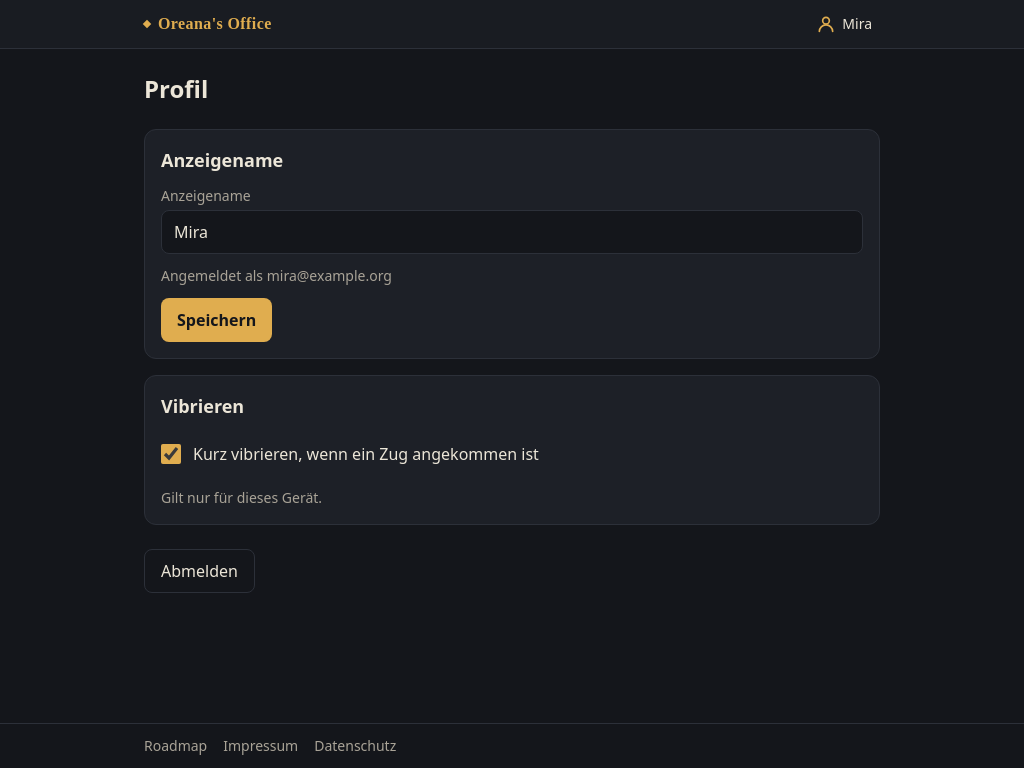
it: the sign-out warning › cancel keeps the user signed in
Expected: the heading "Profil" is shown, 144,72 -> 208,105
Click the button "Abmelden": (199, 571) 144,549 -> 255,593
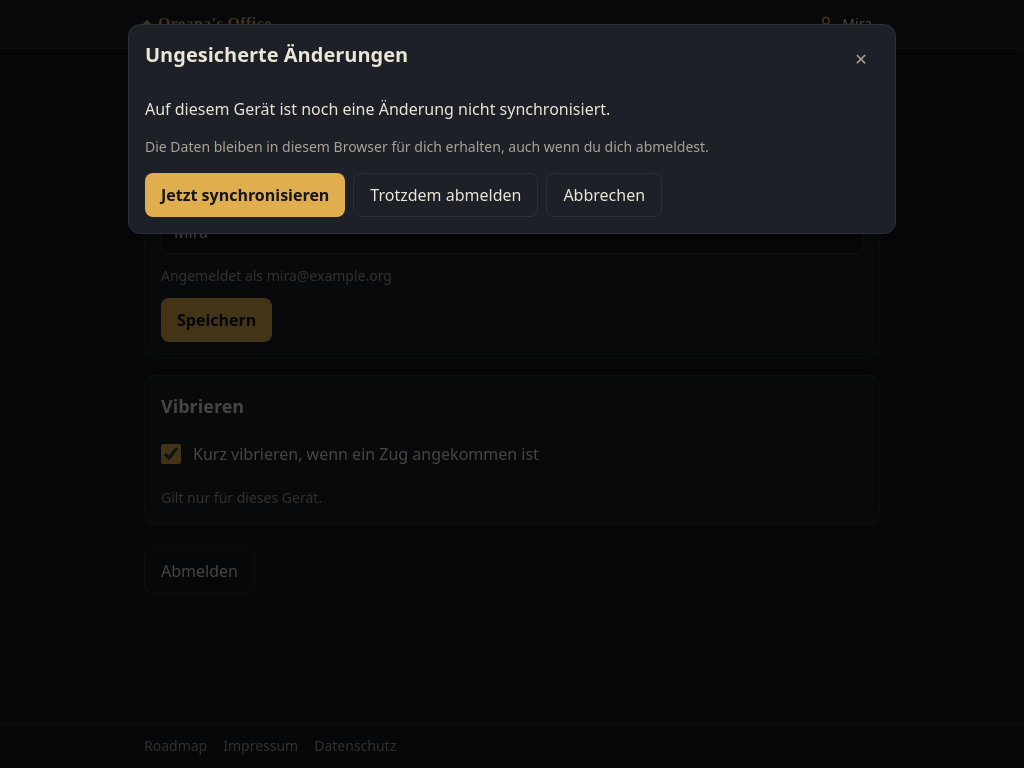
Click the button "Abbrechen": (604, 195) 546,173 -> 662,217
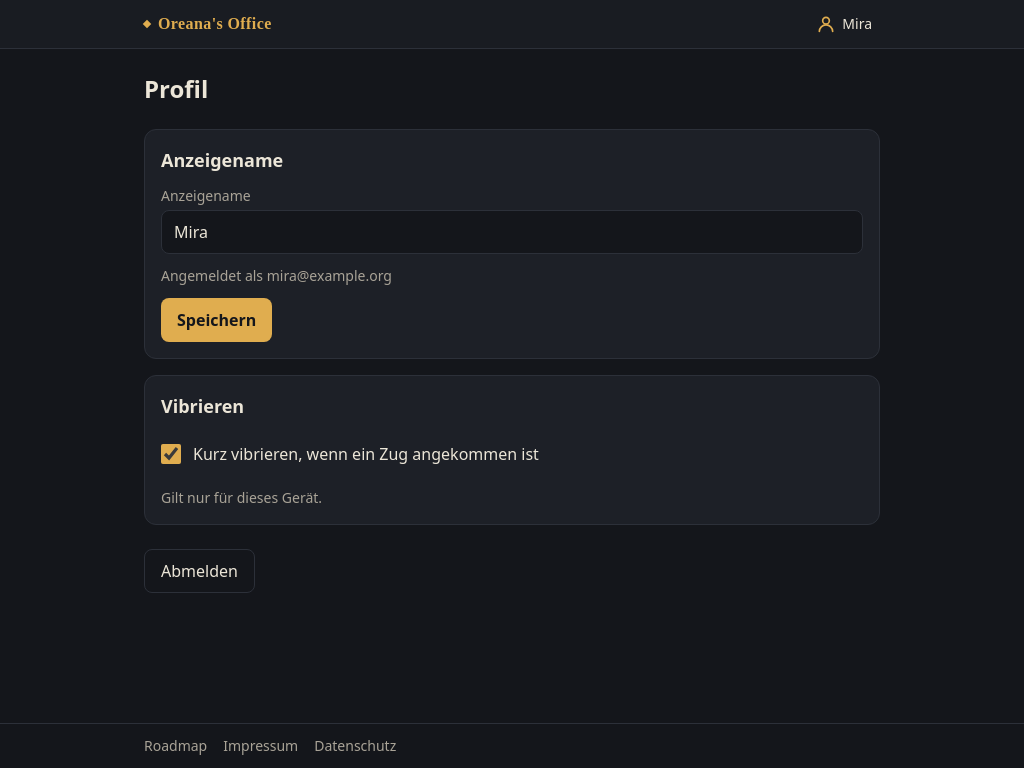
Expected: the dialog is gone
